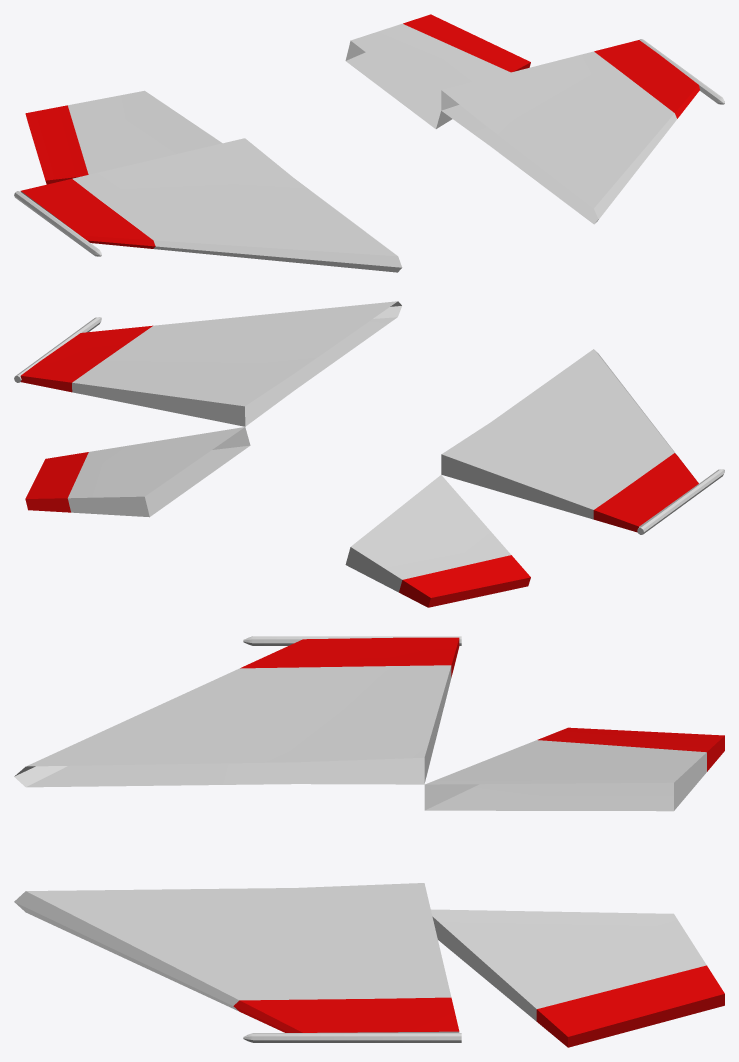
File: 1_Wing.fbx
3 views of the same model, one above another, from view 1: azimuth 30°, elevation 25°; view 2: azimuth 150°, elevation 25°; view 3: azimuth 270°, elevation 25° (orthographic). The views are drawn at different scales.
Visible parts, largest first — view 1: Wing1; view 2: Wing1; view 3: Wing1.
Boxes of the visible parts, left/top/right/bottom form: Wing1: left=14, top=14, right=724, bottom=272; Wing1: left=14, top=301, right=724, bottom=607; Wing1: left=14, top=636, right=724, bottom=1047.
Bounding box in the file's own units: 207 × 17.92 × 155.
